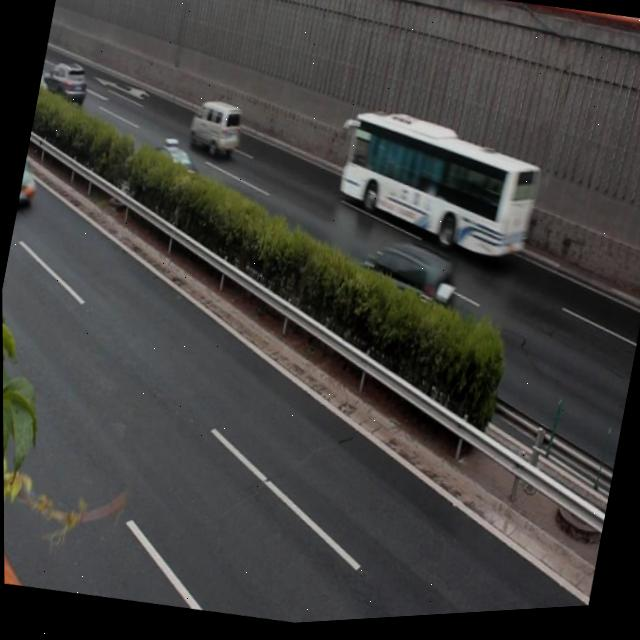car: (355, 235, 469, 341), (145, 135, 201, 199), (39, 55, 92, 113), (15, 136, 49, 218)
truck: (183, 91, 249, 162)
van: (325, 102, 542, 281)
